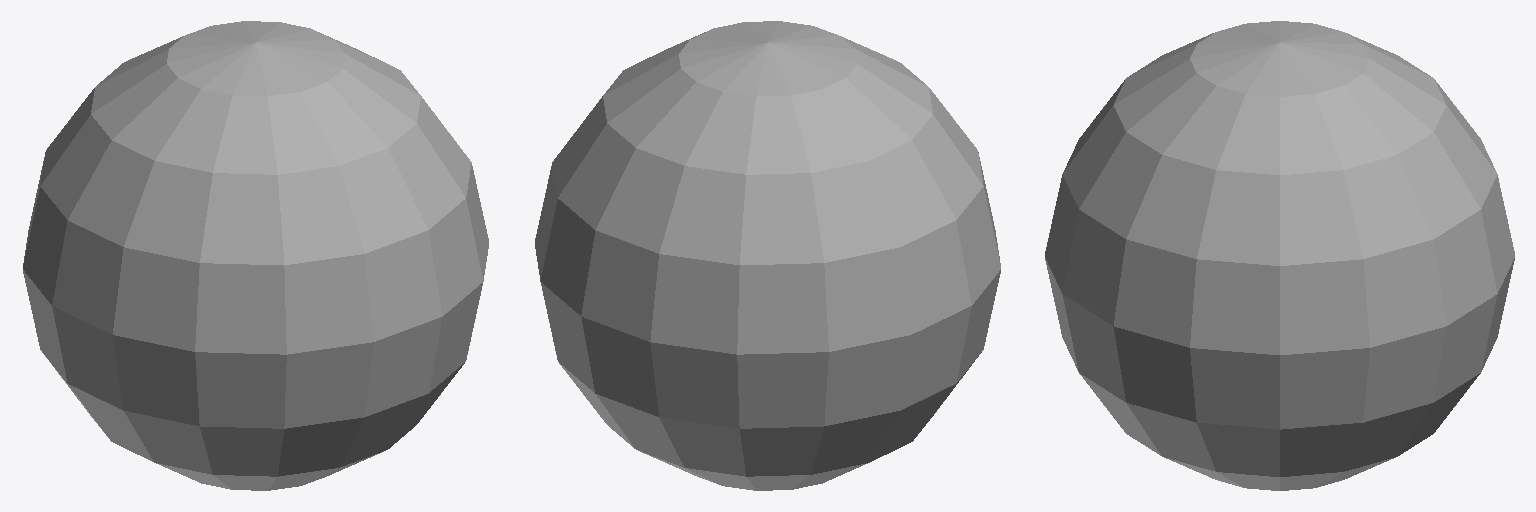
3 views of the same model, side by side, from view 1: azimuth 30°, elevation 25°; view 2: azimuth 150°, elevation 25°; view 3: azimuth 270°, elevation 25° (orthographic).
Visible parts, largest first — view 1: the_sphere2; view 2: the_sphere2; view 3: the_sphere2.
Part boxes in pixels (left/top/right/bottom): the_sphere2: left=23, top=21, right=488, bottom=490; the_sphere2: left=535, top=21, right=1000, bottom=490; the_sphere2: left=1045, top=21, right=1514, bottom=490.
Size of the model in its own units: 2 by 2 by 2.